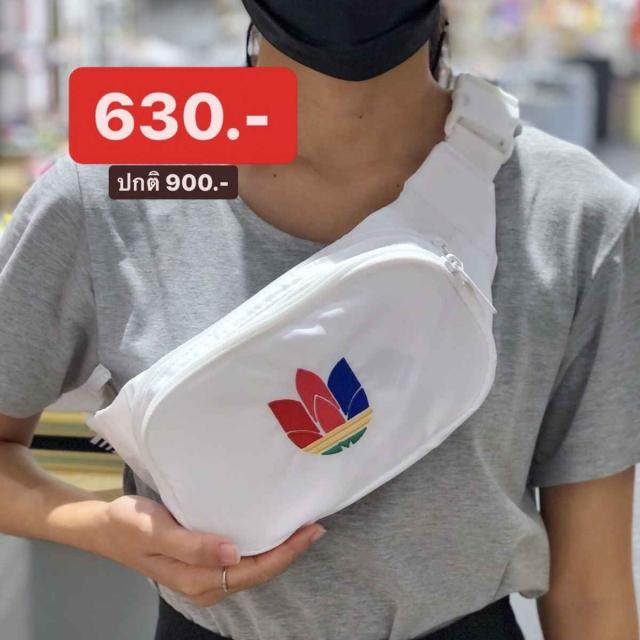Handbag: (89, 122, 517, 580)
